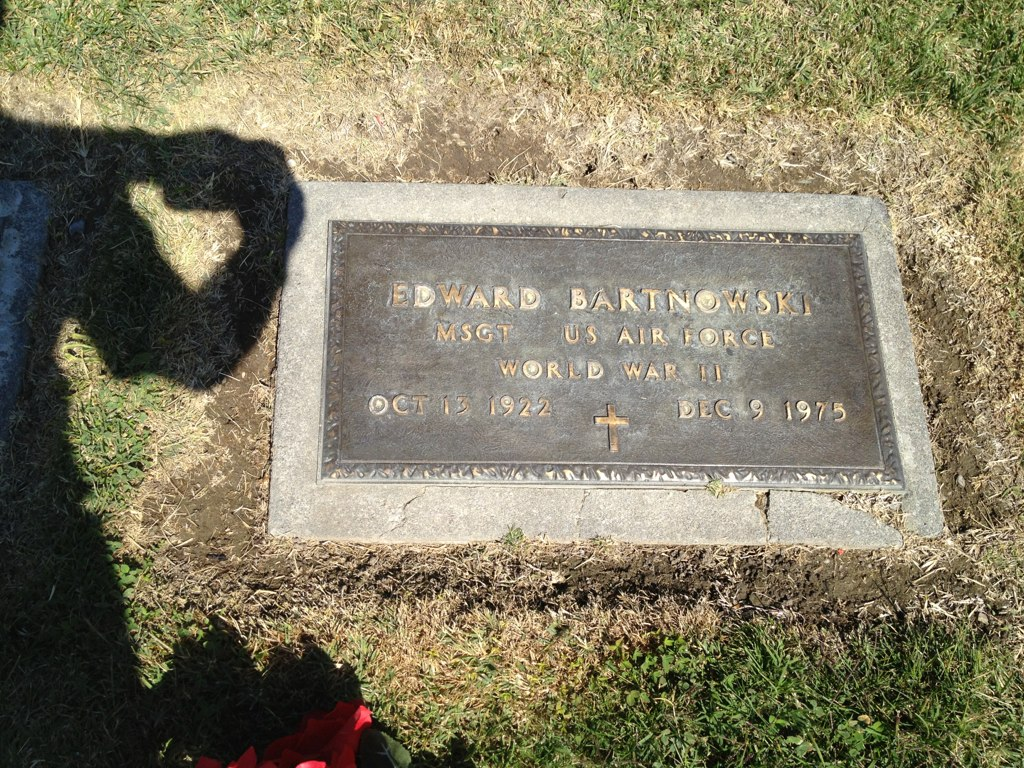flat: (263, 175, 957, 560)
